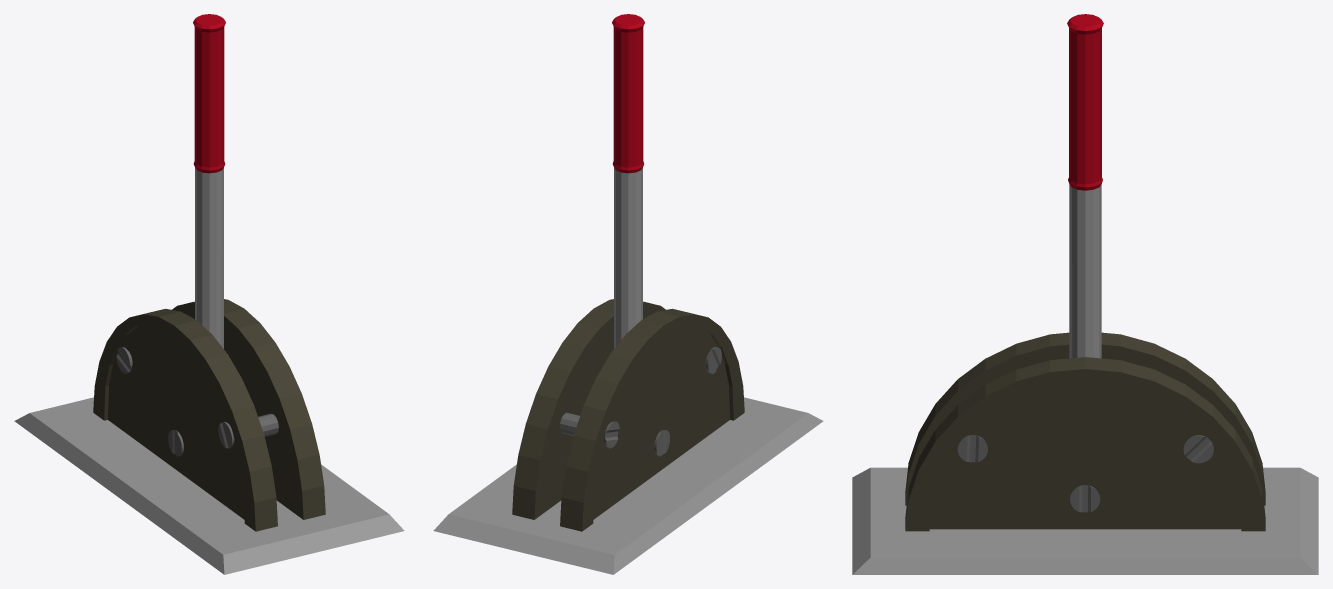
3 renders of one model, left to right at view 1: azimuth 30°, elevation 25°; view 2: azimuth 150°, elevation 25°; view 3: azimuth 270°, elevation 25°, orthographic. The views are drawn at different scales.
Visible parts, largest first — view 1: Circle.002, Plane.001, Cylinder.002, Circle.003; view 2: Circle.002, Plane.001, Cylinder.002, Circle.008; view 3: Circle.002, Plane.001, Cylinder.002, Circle.008, Circle.003.
Boxes of the visible parts, x1,y1,x2,y2 form: Circle.002: (93,299,325,531); Plane.001: (14,397,404,574); Cylinder.002: (168,14,225,456); Circle.003: (218,413,278,448); Circle.002: (512,299,744,531); Plane.001: (433,397,823,574); Cylinder.002: (612,14,669,456); Circle.008: (559,412,619,448); Circle.002: (905,332,1265,531); Plane.001: (852,467,1318,574); Cylinder.002: (1067,14,1103,512); Circle.008: (1183,435,1213,463); Circle.003: (957,435,987,462).
Size of the model in its own units: 42.93 by 104 by 86.71.
